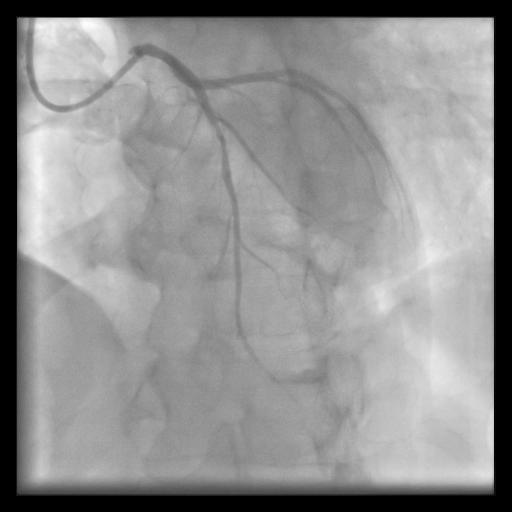Stenosis: (209, 120, 227, 168)
